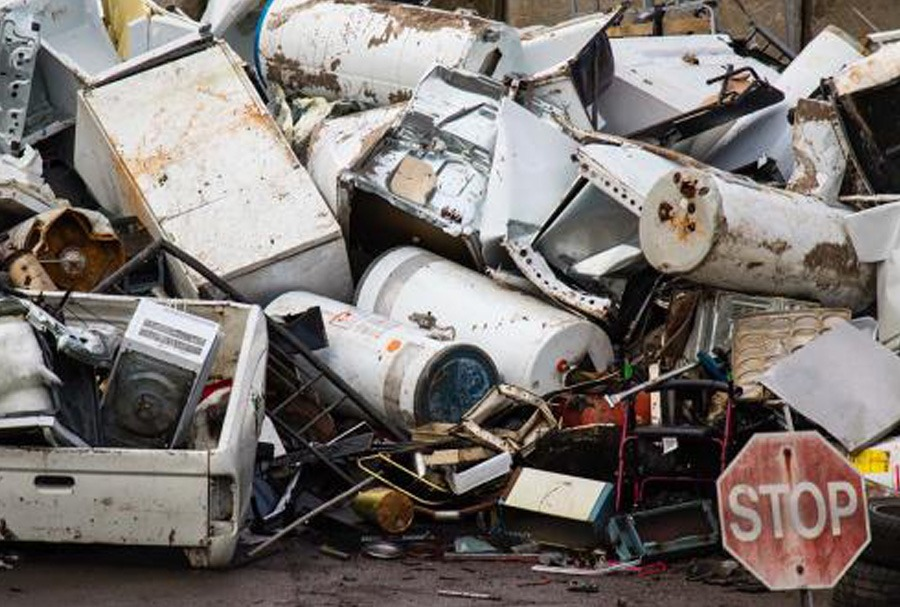Tanque: (361, 266, 600, 384), (659, 168, 861, 295), (278, 296, 481, 410), (274, 1, 497, 90)
electrodomesticos: (105, 57, 355, 284), (418, 85, 579, 284), (100, 297, 191, 443), (615, 35, 706, 112)
